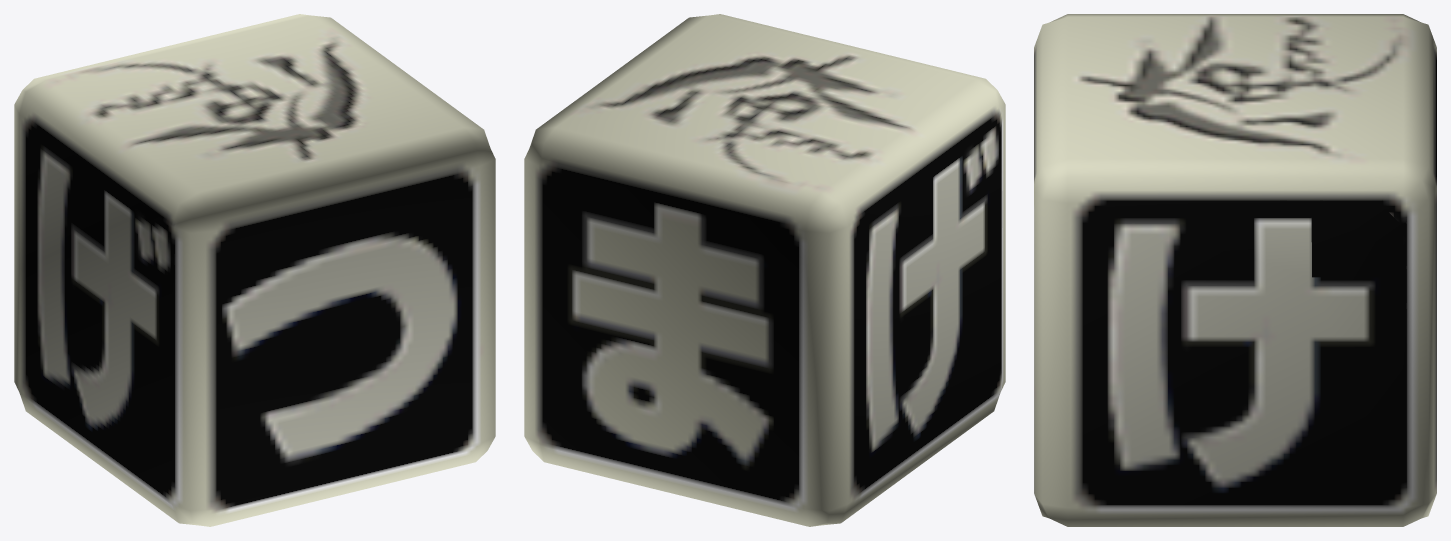
The model's file is mage_00.ico.obj.
3 renders of one model, left to right at view 1: azimuth 30°, elevation 25°; view 2: azimuth 150°, elevation 25°; view 3: azimuth 270°, elevation 25°, orthographic. The views are drawn at different scales.
Size of the model in its own units: 3.42 by 3.42 by 3.42.
1 material, 1 textured.
